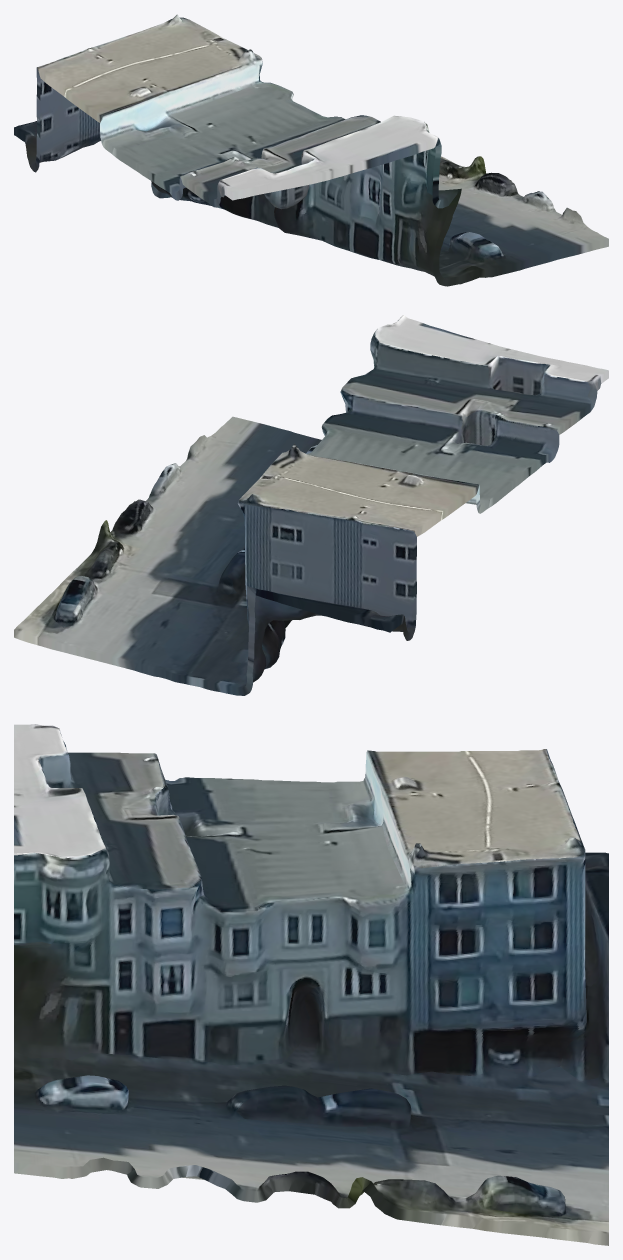
The model's file is z20-167746-405195-h0-yup-uvflip-v3-world.glb.
The picture shows the model from 3 angles, top to bottom: view 1: azimuth 30°, elevation 25°; view 2: azimuth 150°, elevation 25°; view 3: azimuth 270°, elevation 25°; orthographic projection. The views are drawn at different scales.
Bounding box in the file's own units: 30.16 × 16.04 × 30.32.
1 material, 1 textured.
